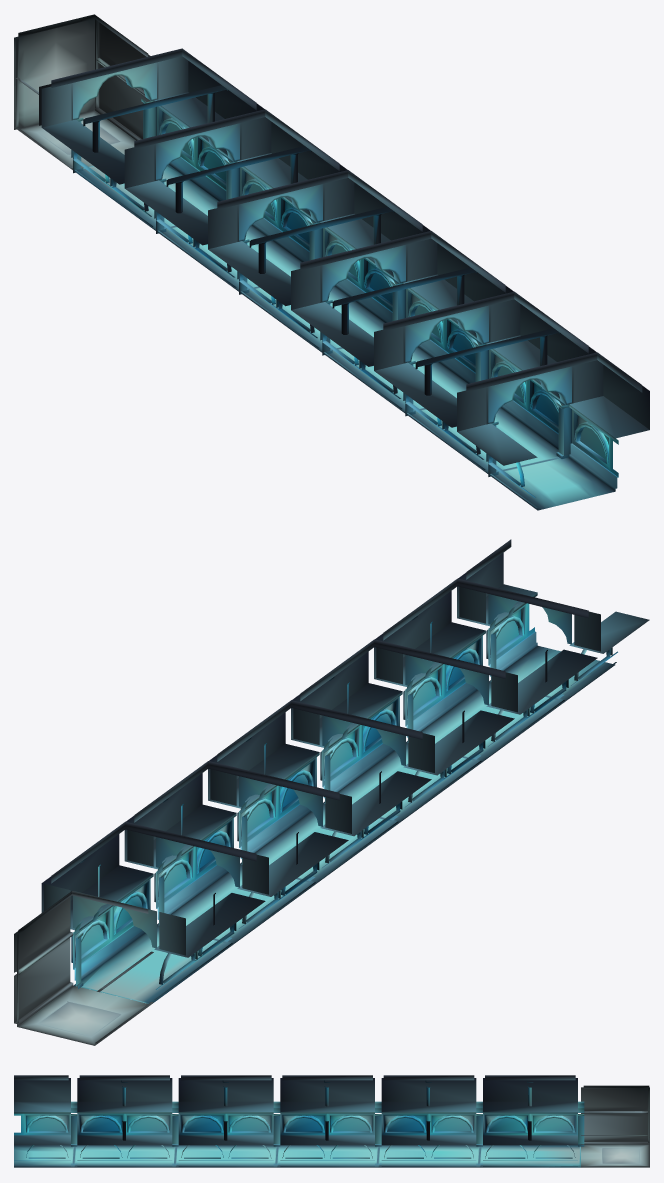
Rendered from 11HallB.gltf.
The picture shows the model from 3 angles, top to bottom: view 1: azimuth 30°, elevation 25°; view 2: azimuth 150°, elevation 25°; view 3: azimuth 270°, elevation 25°; orthographic projection. The views are drawn at different scales.
Parts seen in each view (by area): view 1: stg040_o36_Mesh_0001, stg040_o36_Mesh_0010, stg040_o36_Mesh_0004, stg040_o36_Mesh_0003, stg040_o36_Mesh_0005, stg040_o36_Mesh_0008, stg040_o36_Mesh_0006, stg040_o36_Mesh_0015, stg040_o36_Mesh_0007, stg040_o36_Mesh_0000, stg040_o36_Mesh_0002, stg040_o36_Mesh_0011; view 2: stg040_o36_Mesh_0004, stg040_o36_Mesh_0010, stg040_o36_Mesh_0003, stg040_o36_Mesh_0001, stg040_o36_Mesh_0008, stg040_o36_Mesh_0005, stg040_o36_Mesh_0015, stg040_o36_Mesh_0007, stg040_o36_Mesh_0000, stg040_o36_Mesh_0006, stg040_o36_Mesh_0009, stg040_o36_Mesh_0002; view 3: stg040_o36_Mesh_0004, stg040_o36_Mesh_0008, stg040_o36_Mesh_0005, stg040_o36_Mesh_0003, stg040_o36_Mesh_0001, stg040_o36_Mesh_0000, stg040_o36_Mesh_0007, stg040_o36_Mesh_0015, stg040_o36_Mesh_0006, stg040_o36_Mesh_0014, stg040_o36_Mesh_0002, stg040_o36_Mesh_0009.
Part boxes in pixels (x1,y1,x2,y2): stg040_o36_Mesh_0001: (14, 19, 642, 505); stg040_o36_Mesh_0010: (44, 56, 600, 429); stg040_o36_Mesh_0004: (42, 92, 649, 465); stg040_o36_Mesh_0003: (14, 89, 618, 507); stg040_o36_Mesh_0005: (15, 19, 618, 510); stg040_o36_Mesh_0008: (20, 61, 649, 429); stg040_o36_Mesh_0006: (14, 14, 603, 474); stg040_o36_Mesh_0015: (83, 167, 607, 508); stg040_o36_Mesh_0007: (99, 22, 606, 459); stg040_o36_Mesh_0000: (99, 63, 574, 492); stg040_o36_Mesh_0002: (14, 99, 559, 473); stg040_o36_Mesh_0011: (14, 66, 94, 111); stg040_o36_Mesh_0004: (70, 584, 649, 960); stg040_o36_Mesh_0010: (44, 587, 600, 955); stg040_o36_Mesh_0003: (14, 615, 617, 1043); stg040_o36_Mesh_0001: (16, 539, 595, 1045); stg040_o36_Mesh_0008: (19, 553, 503, 1044); stg040_o36_Mesh_0005: (17, 603, 615, 1023); stg040_o36_Mesh_0015: (82, 647, 607, 1001); stg040_o36_Mesh_0007: (14, 620, 518, 972); stg040_o36_Mesh_0000: (14, 681, 563, 1037); stg040_o36_Mesh_0006: (18, 604, 517, 985); stg040_o36_Mesh_0009: (39, 1001, 120, 1036); stg040_o36_Mesh_0002: (18, 695, 558, 1045); stg040_o36_Mesh_0004: (14, 1101, 577, 1145); stg040_o36_Mesh_0008: (14, 1078, 649, 1167); stg040_o36_Mesh_0005: (14, 1088, 649, 1167); stg040_o36_Mesh_0003: (14, 1080, 649, 1166); stg040_o36_Mesh_0001: (14, 1075, 649, 1167); stg040_o36_Mesh_0000: (33, 1113, 649, 1164); stg040_o36_Mesh_0007: (29, 1087, 649, 1131); stg040_o36_Mesh_0015: (14, 1146, 579, 1165); stg040_o36_Mesh_0006: (71, 1085, 649, 1144); stg040_o36_Mesh_0014: (14, 1151, 540, 1159); stg040_o36_Mesh_0002: (72, 1144, 649, 1167); stg040_o36_Mesh_0009: (602, 1148, 639, 1163).
Size of the model in its own units: 23.47 by 15.32 by 145.
